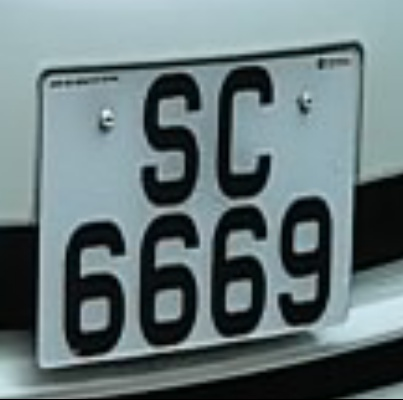6: (46, 210, 140, 361), (126, 207, 210, 351), (201, 196, 275, 344)
9: (270, 190, 346, 336)
C: (201, 53, 288, 205)
S: (116, 63, 217, 214)
